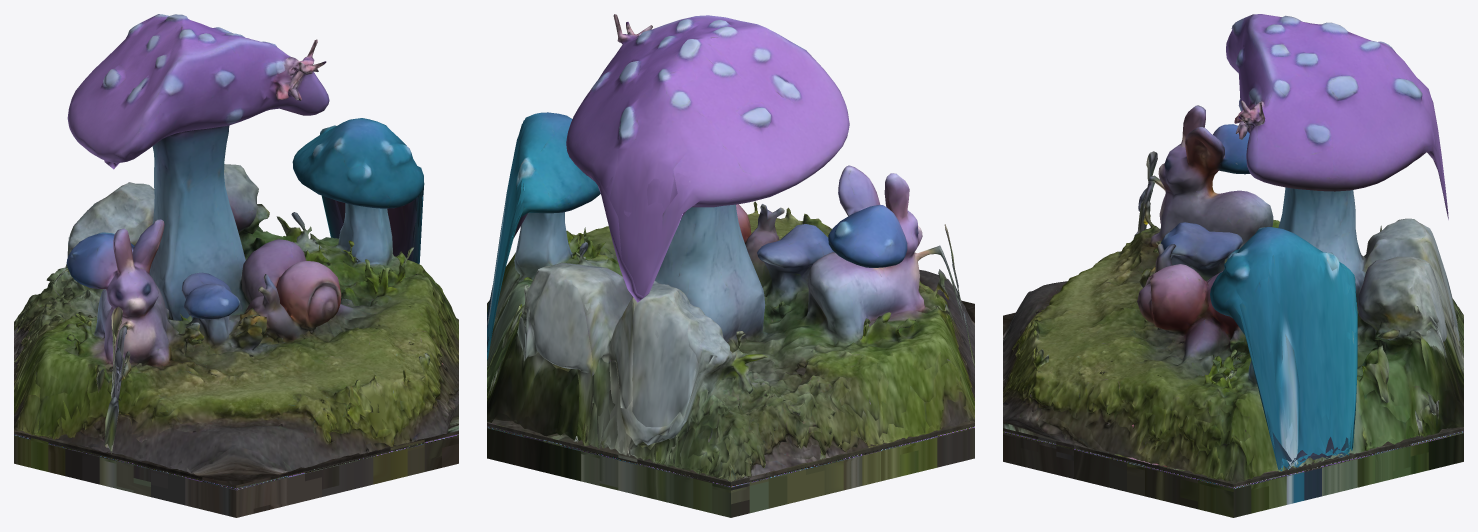
Rendered from hex_dream_menagerie.glb.
3 views of the same model, side by side, from view 1: azimuth 30°, elevation 25°; view 2: azimuth 150°, elevation 25°; view 3: azimuth 270°, elevation 25° (orthographic). The views are drawn at different scales.
Visible parts, largest first — view 1: hex_dream_menagerie_s7_fit; view 2: hex_dream_menagerie_s7_fit; view 3: hex_dream_menagerie_s7_fit.
Boxes of the visible parts, x1,y1,x2,y2 form: hex_dream_menagerie_s7_fit: (14,14,458,517); hex_dream_menagerie_s7_fit: (487,14,974,517); hex_dream_menagerie_s7_fit: (1003,14,1463,517).
Bounding box in the file's own units: 5.11 × 3.98 × 4.42.
1 material, 1 textured.
